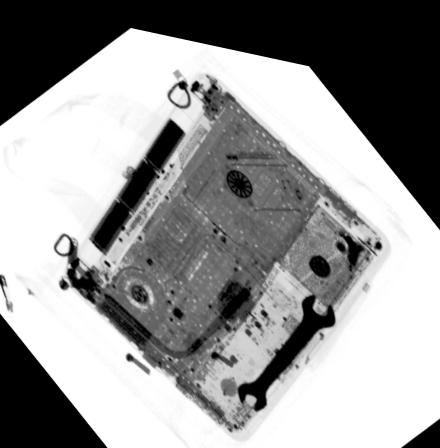Wrench: (236, 278, 336, 400)
